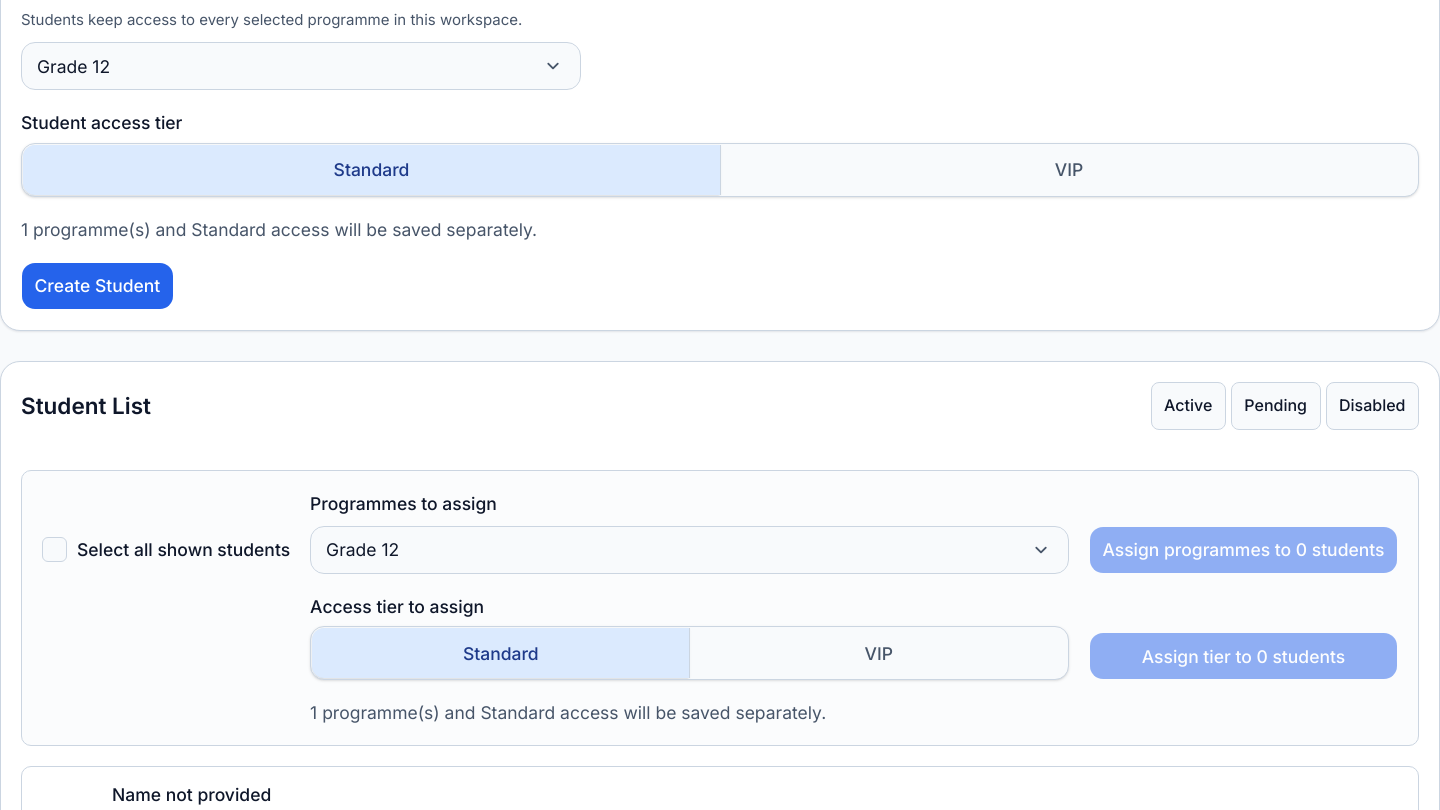
Test: TeacherStudentsPage › does not show rows from a different filter when the filtered request fails
This screenshot has width=1440, height=810.
(page scrolled)
Click the button "Active": click(1188, 406) [1151, 382, 1226, 430]
(page scrolled)
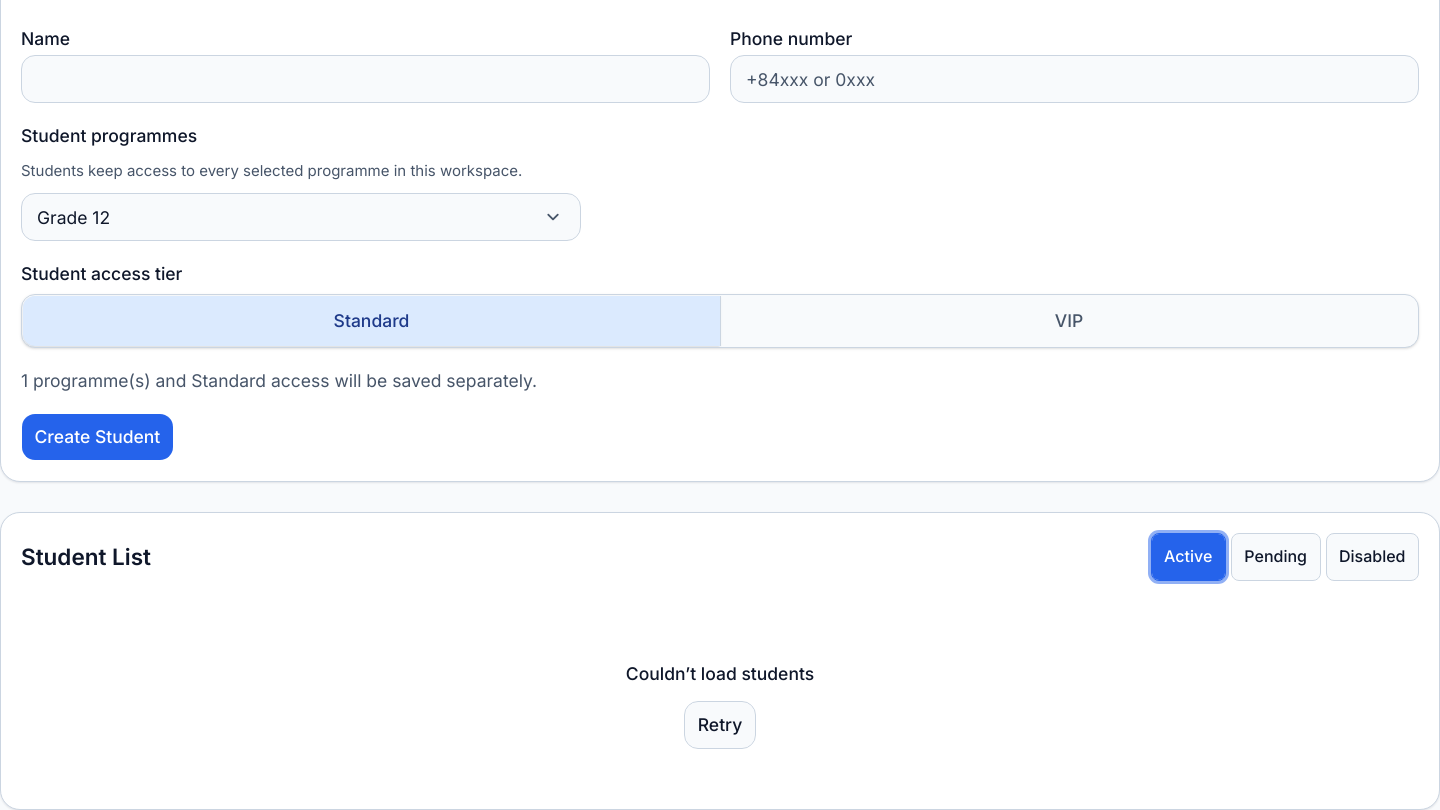
Result: the text "Couldn’t load students" is shown at [626, 663, 814, 684]
